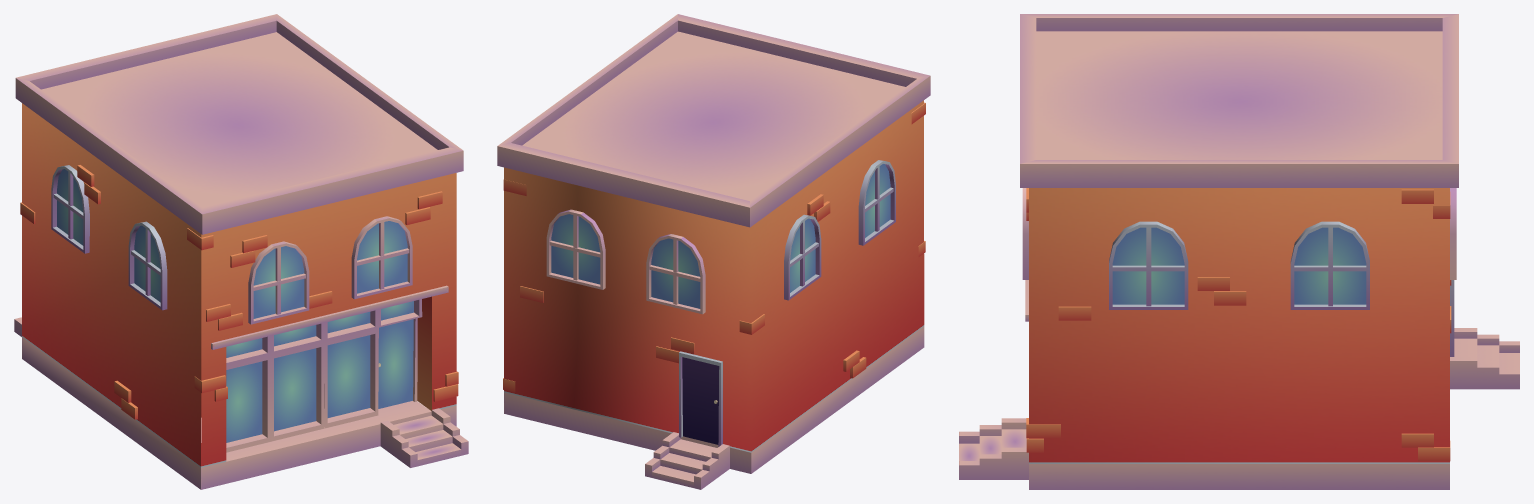
3 renders of one model, left to right at view 1: azimuth 30°, elevation 25°; view 2: azimuth 150°, elevation 25°; view 3: azimuth 270°, elevation 25°, orthographic. The views are drawn at different scales.
Parts seen in each view (by area): view 1: SM_2F_01; view 2: SM_2F_01; view 3: SM_2F_01.
Part boxes in pixels (x1=…): SM_2F_01: x1=14, y1=14, x2=468, y2=489; SM_2F_01: x1=497, y1=14, x2=930, y2=489; SM_2F_01: x1=959, y1=14, x2=1519, y2=489.
Size of the model in its own units: 7.78 by 12.09 by 7.81.
